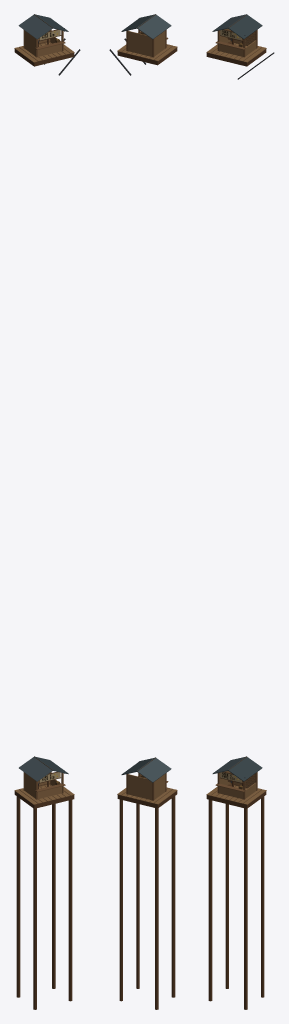
File: coast_isl_saltglass_tollbooths.glb
3 renders of one model, left to right at view 1: azimuth 30°, elevation 25°; view 2: azimuth 150°, elevation 25°; view 3: azimuth 330°, elevation 25°, orthographic.
Visible parts, largest first — view 1: geometry_0; view 2: geometry_0; view 3: geometry_0.
Boxes of the visible parts, <box> form: geometry_0: <box>14,14,80,1009</box>; geometry_0: <box>109,14,177,1009</box>; geometry_0: <box>206,14,274,1009</box>.
Bounding box in the file's own units: 6.21 × 116 × 4.3.
